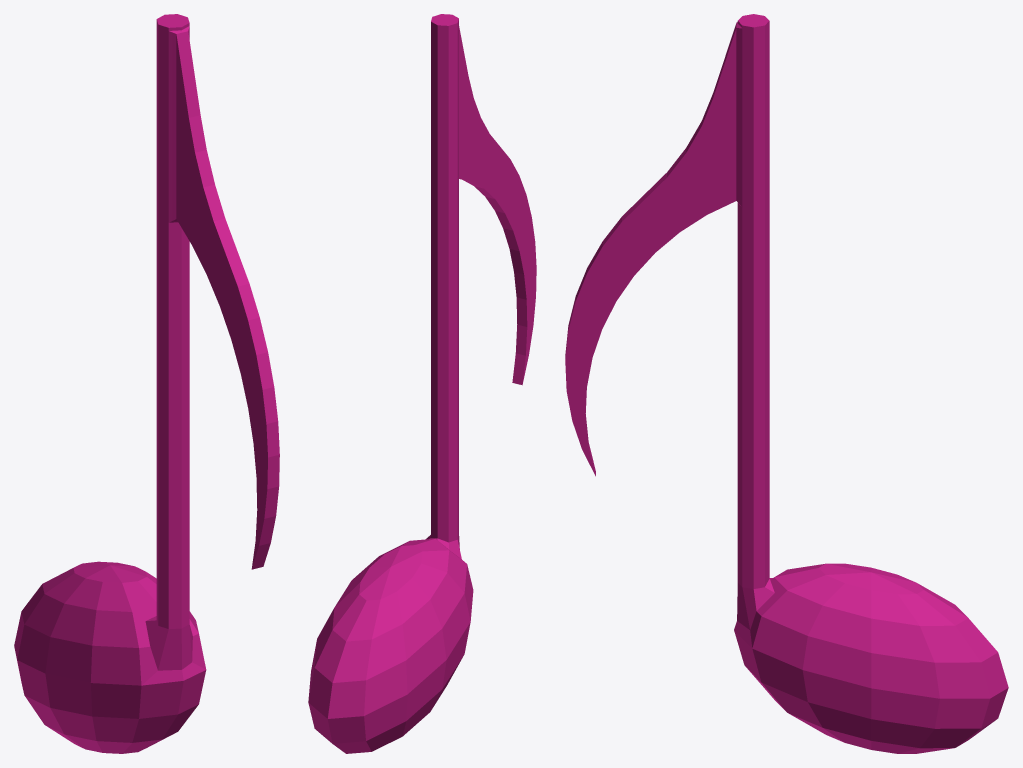
Rendered from music_7.obj.
The picture shows the model from 3 angles, left to right: view 1: azimuth 30°, elevation 25°; view 2: azimuth 150°, elevation 25°; view 3: azimuth 270°, elevation 25°; orthographic projection. The views are drawn at different scales.
Visible parts, largest first — view 1: Mesh_MusicNote; view 2: Mesh_MusicNote; view 3: Mesh_MusicNote.
Part boxes in pixels (x1,y1,x2,y2): Mesh_MusicNote: (14,14,279,753); Mesh_MusicNote: (308,14,536,753); Mesh_MusicNote: (565,14,1008,753).
Size of the model in its own units: 2.2 by 12.65 by 6.97.
